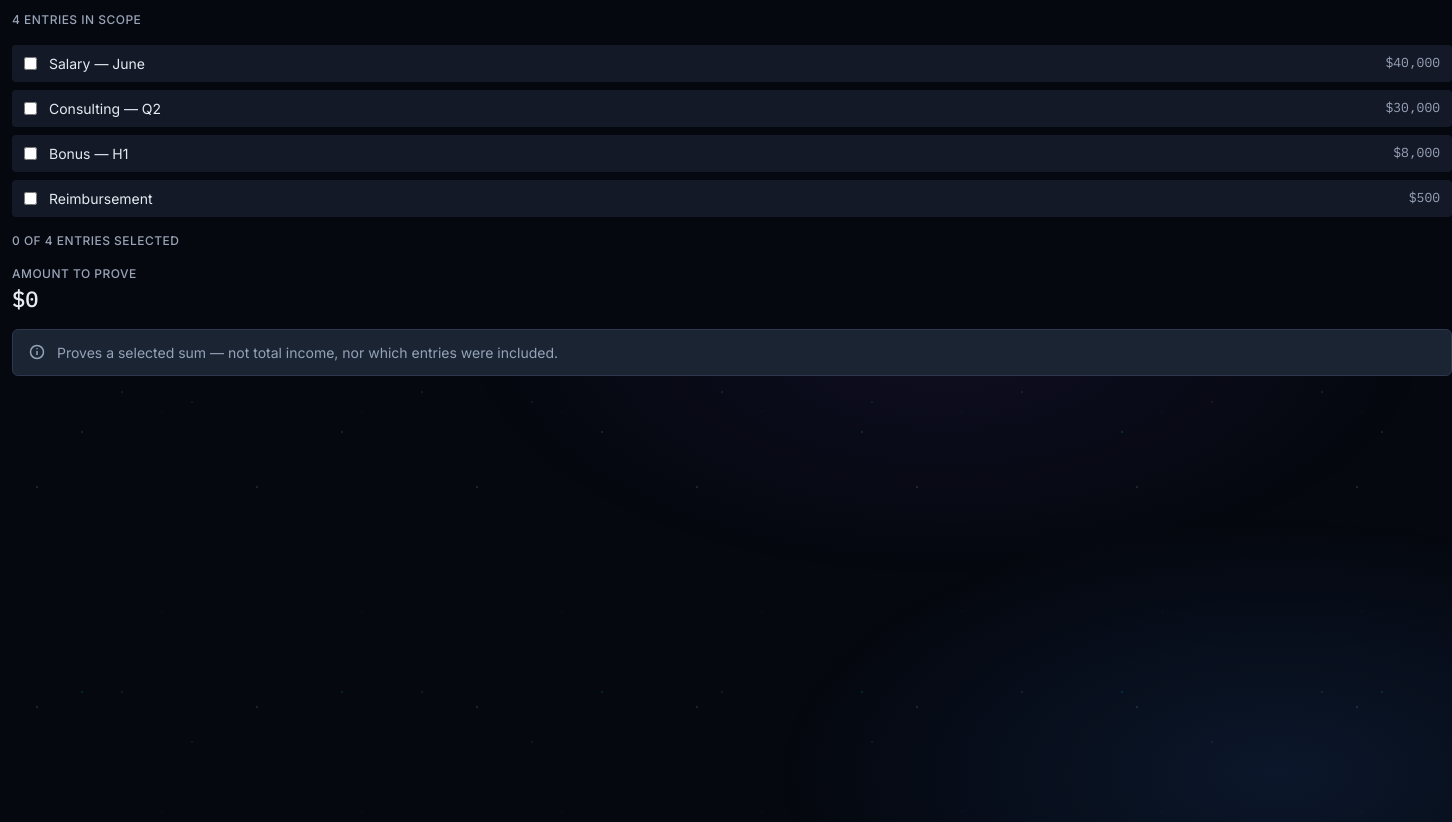
SelectEntries — a11y (AC-2) › disabled checkbox has aria-disabled semantics via the disabled attribute
The image size is (1452, 822).
Click the checkbox labelled "Salary — June $40,000" at (30, 63), box [24,57,37,70]
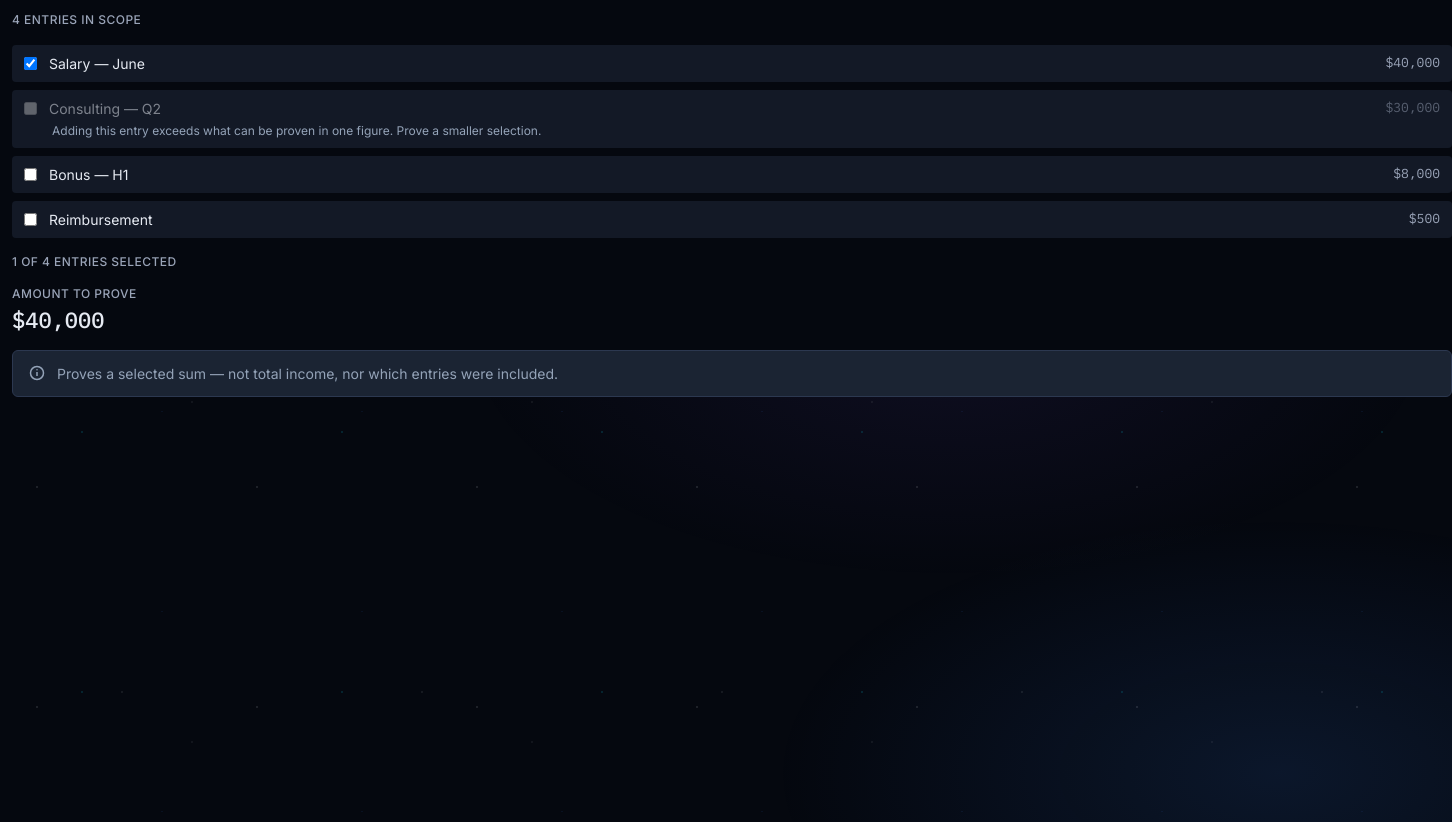
Now the checkbox labelled "Consulting — Q2 $30,000" is disabled, box [24,102,37,115]
